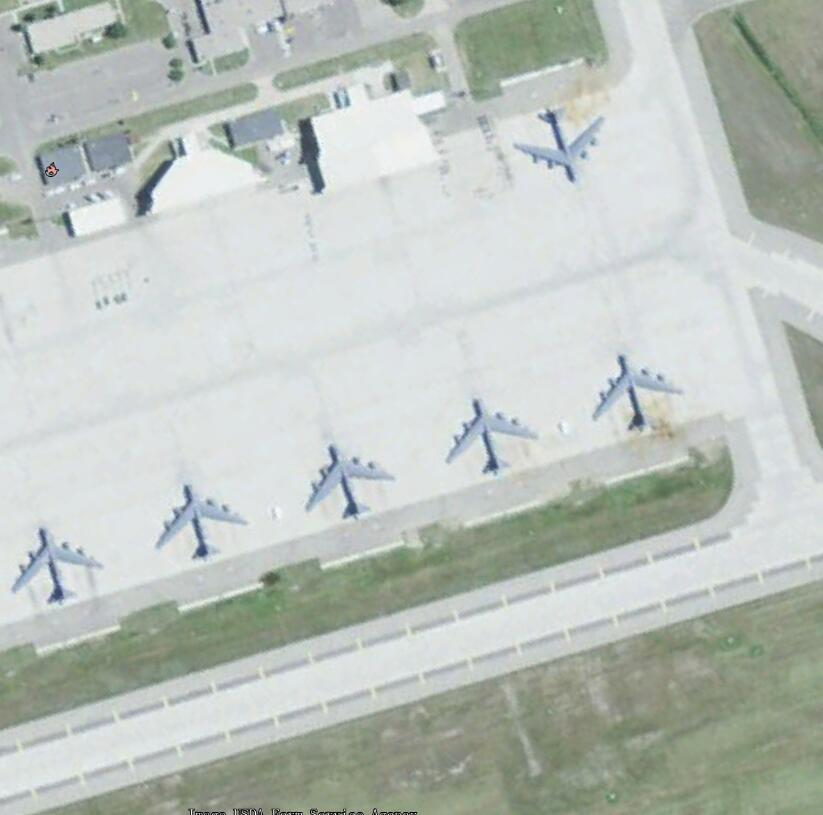A8: (444, 390, 541, 479), (514, 100, 608, 191), (592, 348, 685, 439), (297, 441, 398, 521), (15, 526, 105, 607), (156, 482, 249, 559)
